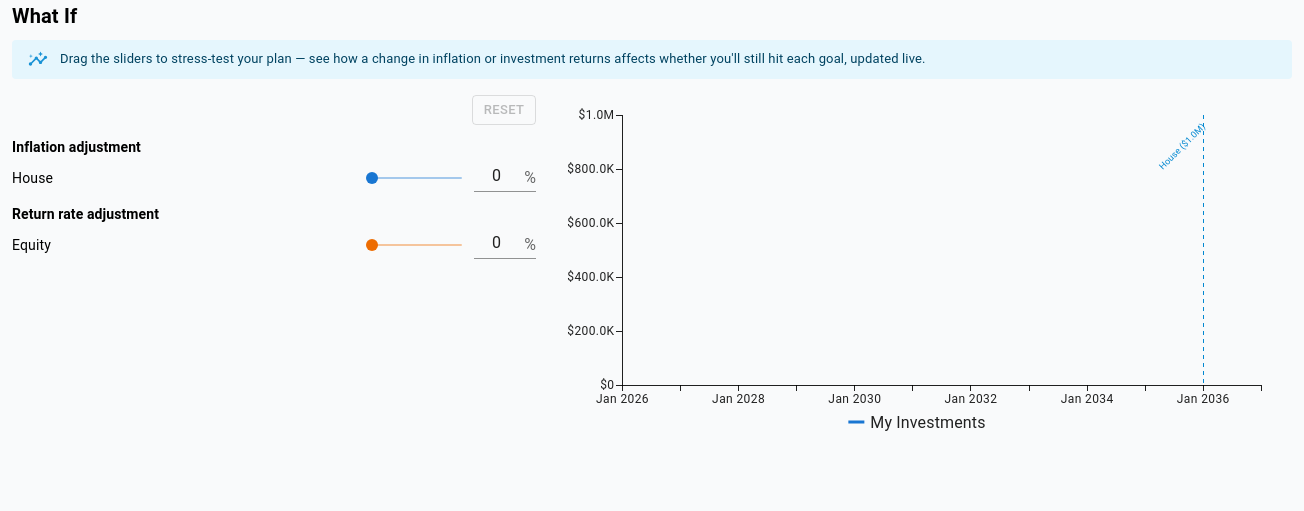
WhatIf › shows a shortfall warning under the graph and enables Reset when the inflation value input changes
The width and height of the screenshot is (1304, 511).
Replace the text in the number field named "House inflation rate value" with "20" at (495, 178), box x1=474 y1=163 x2=516 y2=192
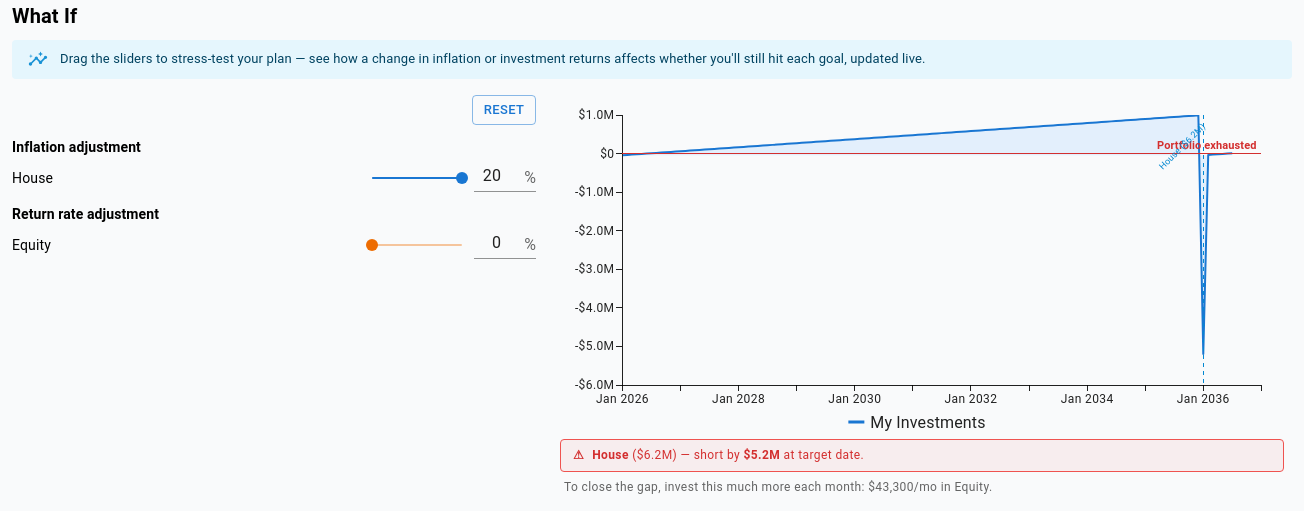
Check: the text "House ($6.2M) — short by $5.2M at target date." is shown, box x1=592 y1=446 x2=864 y2=466
Check: the button "Reset" is enabled, box x1=472 y1=95 x2=536 y2=125
